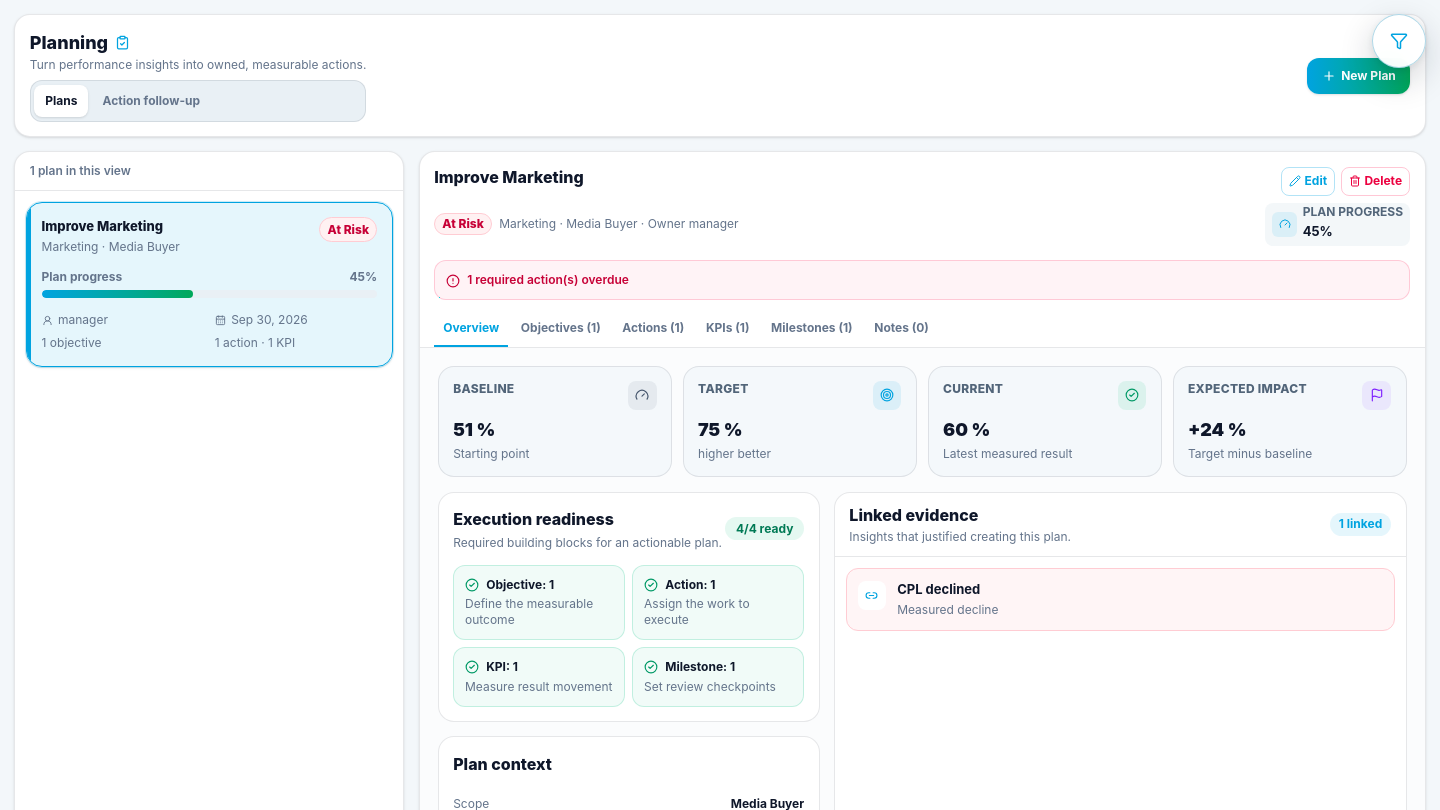
Test: PlanningView › blocks incomplete steps before sending an invalid plan
Click the button "New Plan" at (1359, 76), box [1307, 58, 1410, 94]
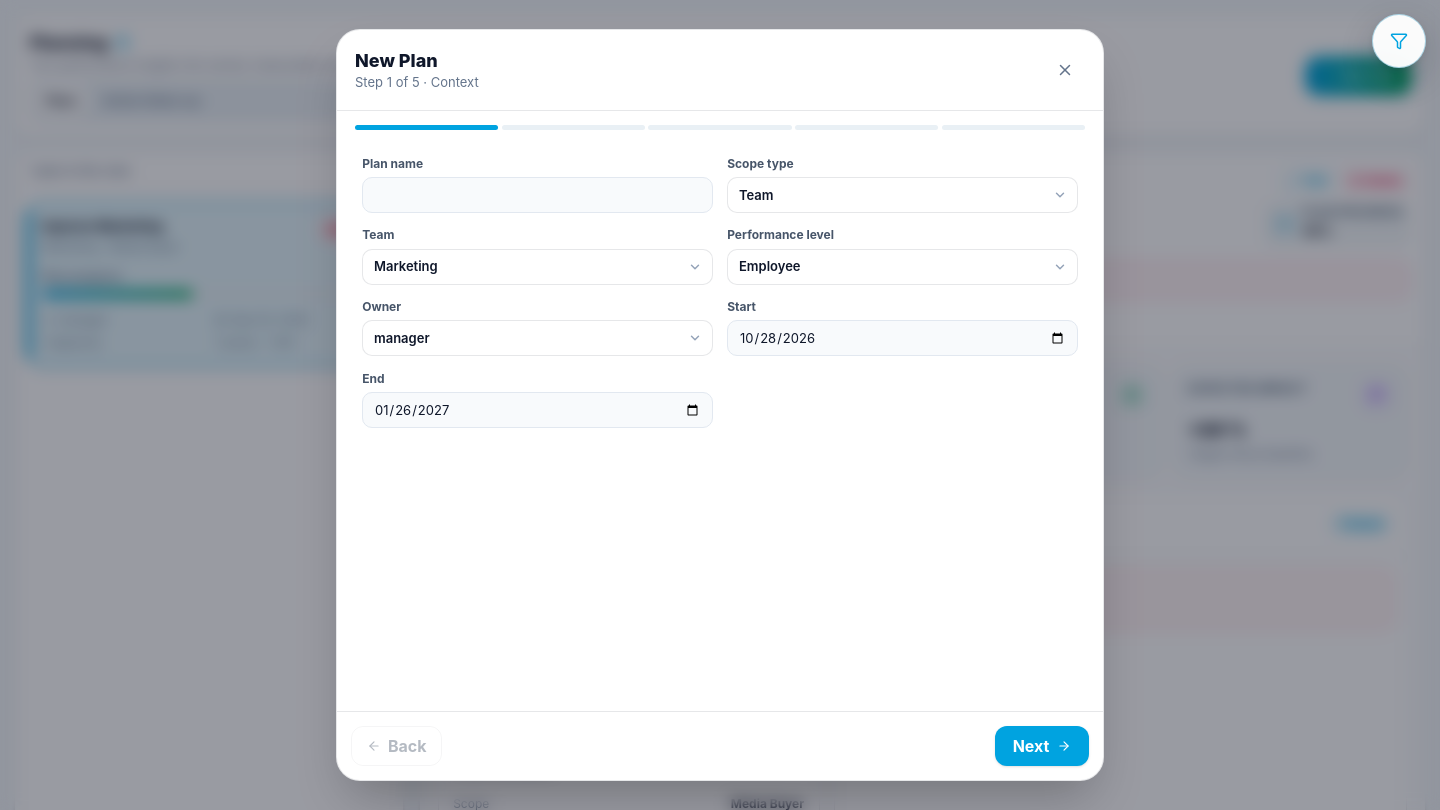
Click the button "Next" at (1042, 746), box [995, 726, 1089, 766]
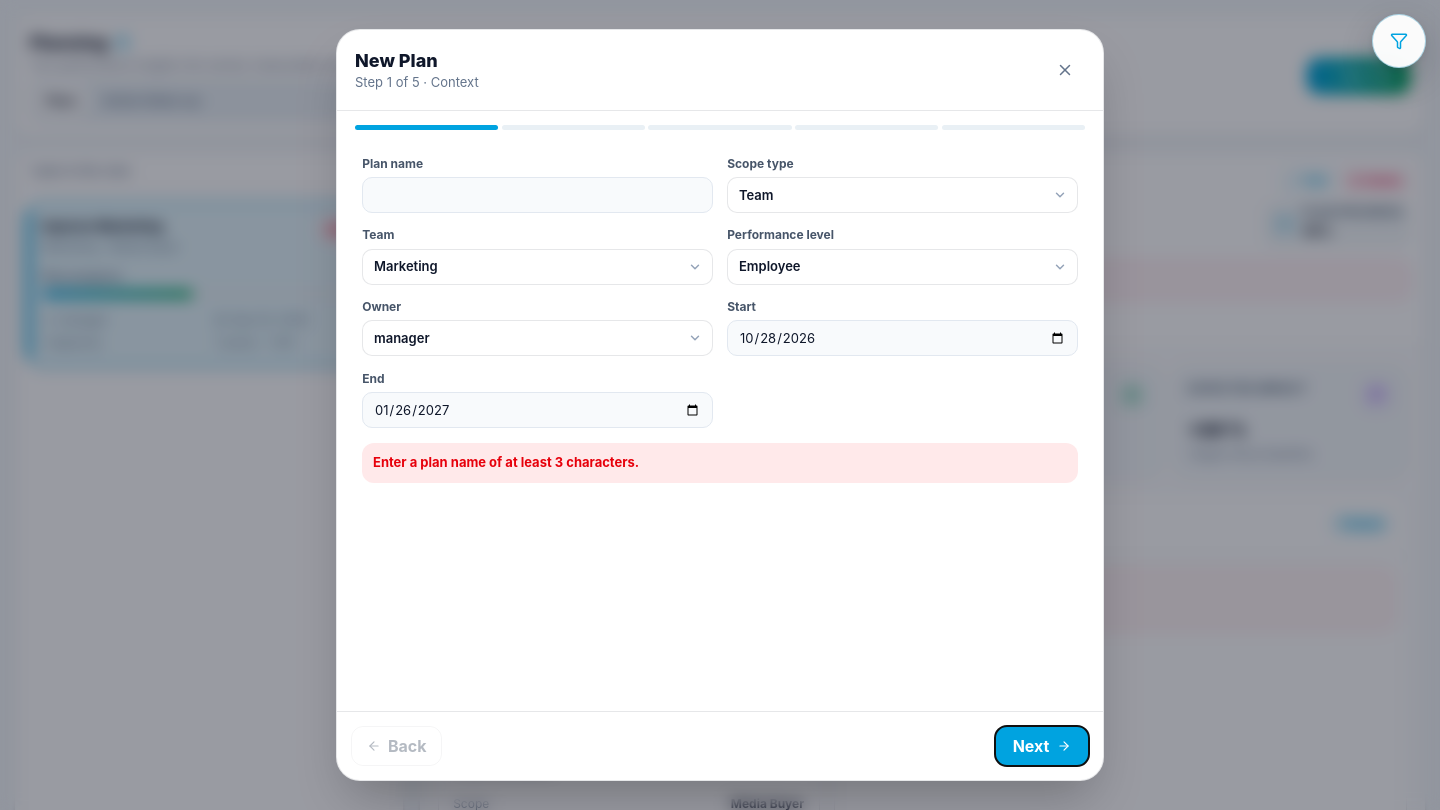
Expected: the text "Step 1 of 5 · Context" is shown, [355, 73, 479, 92]
Expected: the message reads "Enter a plan name of at least 3 characters.", [373, 454, 639, 470]
